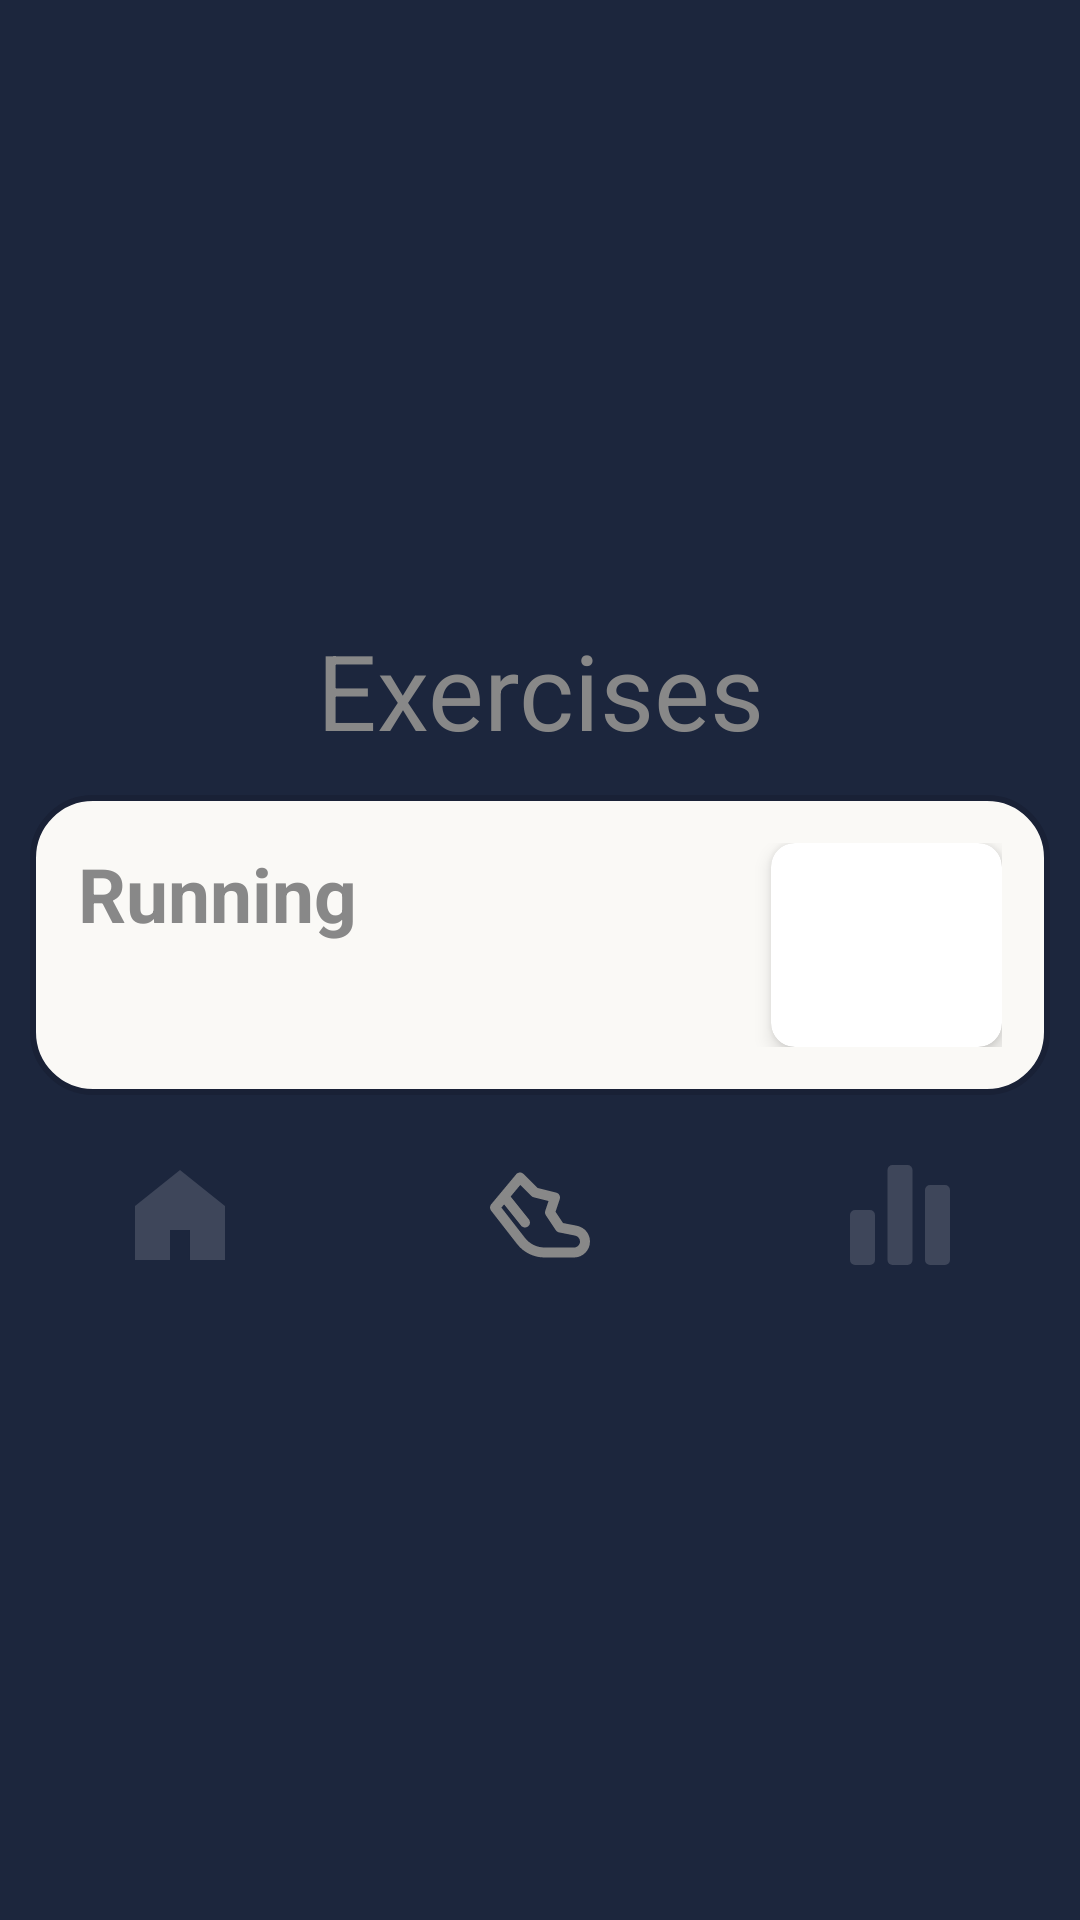

Where icons sit on this 1080 × 1920 app screen, as bbox(x1, y1, x2, y2):
chart colum: bbox(850, 1165, 950, 1265)
home: bbox(135, 1171, 225, 1260)
shoeclicked: bbox(490, 1172, 590, 1258)
